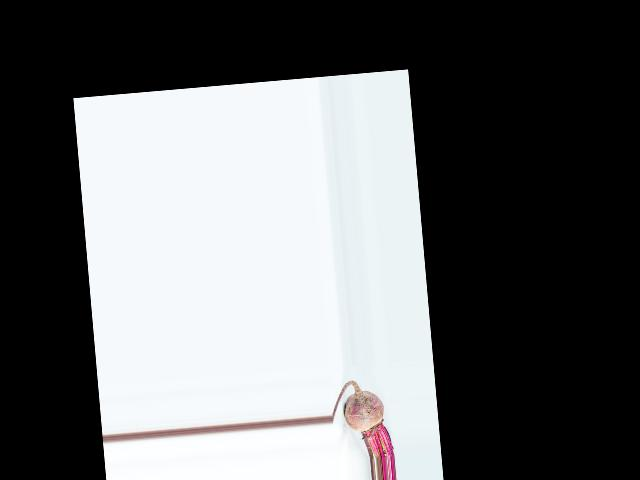beet: (329, 377, 394, 462)
